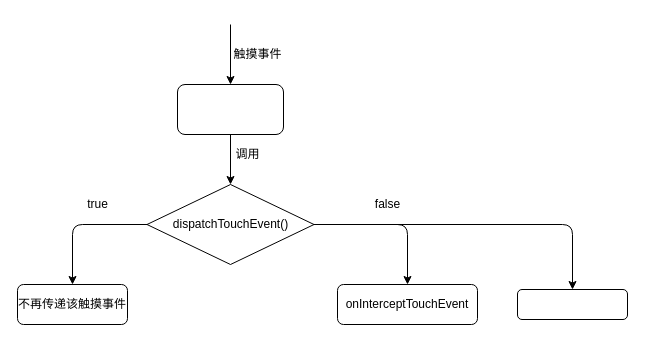
The diagram is 645 pixels wide and 342 high, and some of its shapes have lost their labels. Each missing label, with the centre of its shape:
RootView: [230,109]
传递给子View: [572,304]
